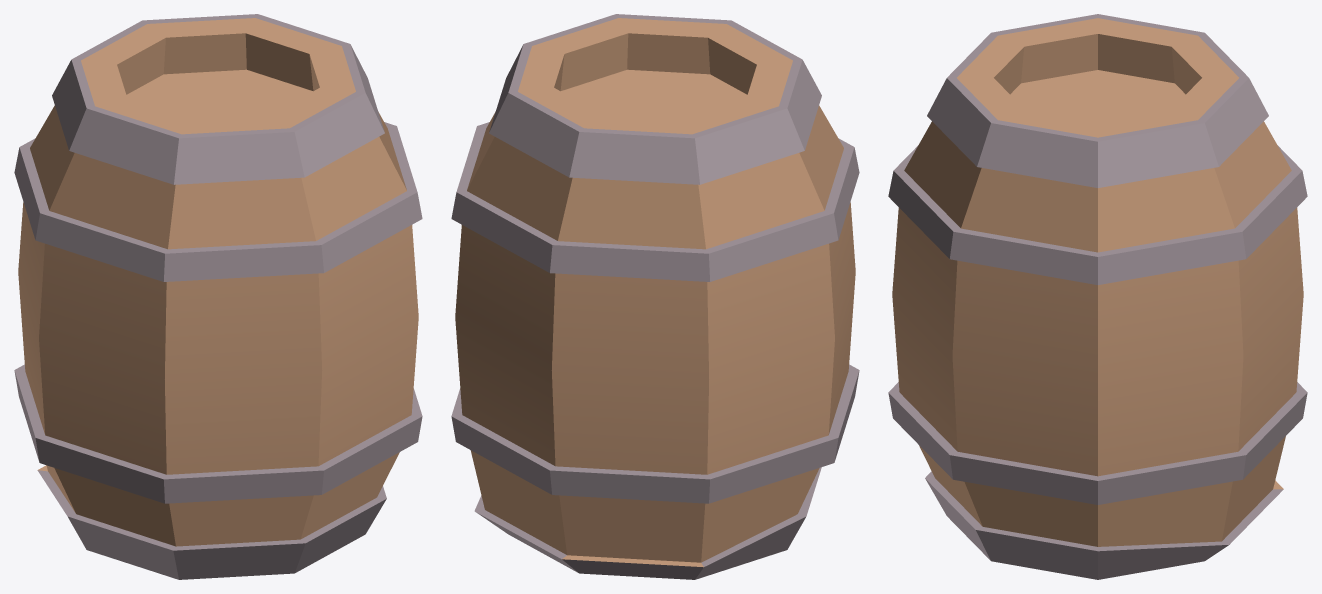
File: barrel.fbx
3 views of the same model, side by side, from view 1: azimuth 30°, elevation 25°; view 2: azimuth 150°, elevation 25°; view 3: azimuth 270°, elevation 25° (orthographic).
Parts seen in each view (by area): view 1: pCylinder3; view 2: pCylinder3; view 3: pCylinder3.
Boxes of the visible parts, x1,y1,x2,y2 form: pCylinder3: (14, 14, 422, 579); pCylinder3: (451, 14, 859, 579); pCylinder3: (888, 14, 1307, 579).
Size of the model in its own units: 3.52 by 4.06 by 3.52.
